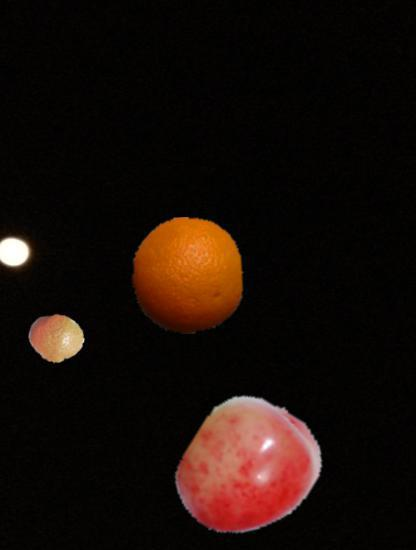Cherry: (176, 397, 322, 543)
Mandarine: (28, 310, 85, 367)
Orange: (129, 217, 247, 335)
